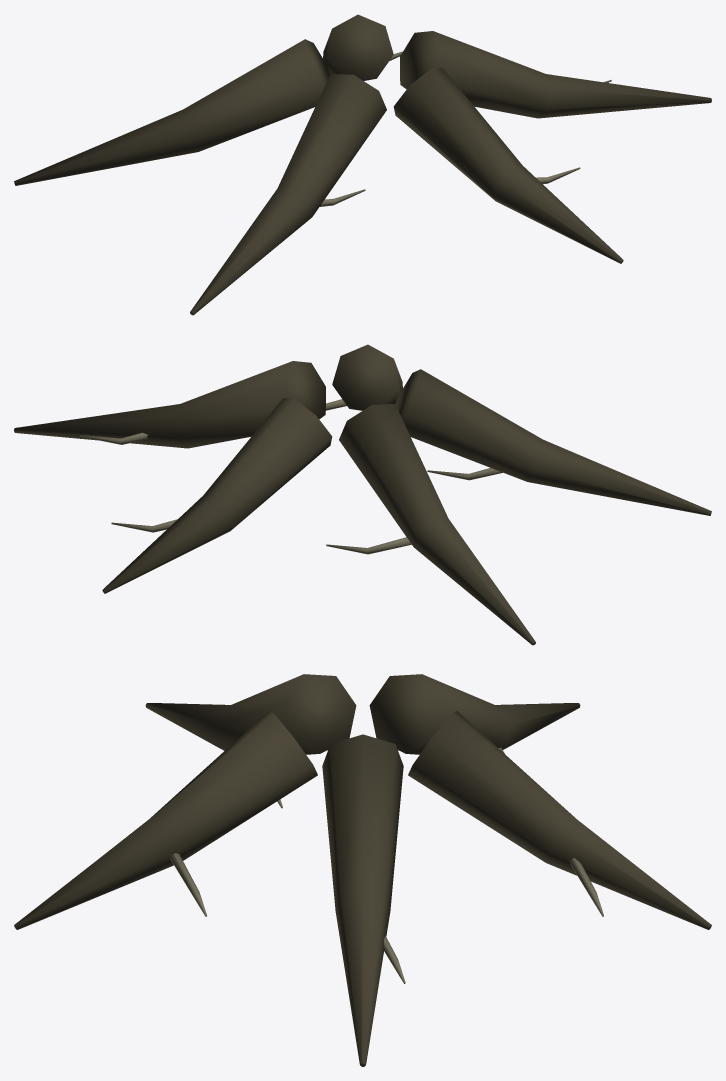
The model's file is root-foot-tangle.glb.
3 views of the same model, one above another, from view 1: azimuth 30°, elevation 25°; view 2: azimuth 150°, elevation 25°; view 3: azimuth 270°, elevation 25° (orthographic). The views are drawn at different scales.
Visible parts, largest first — view 1: Surface; view 2: Surface; view 3: Surface.
Part boxes in pixels (left/top/right/bottom): Surface: left=14, top=14, right=711, bottom=315; Surface: left=14, top=344, right=711, bottom=645; Surface: left=14, top=674, right=711, bottom=1066.
Bounding box in the file's own units: 0.8162 × 0.1786 × 0.6689.
